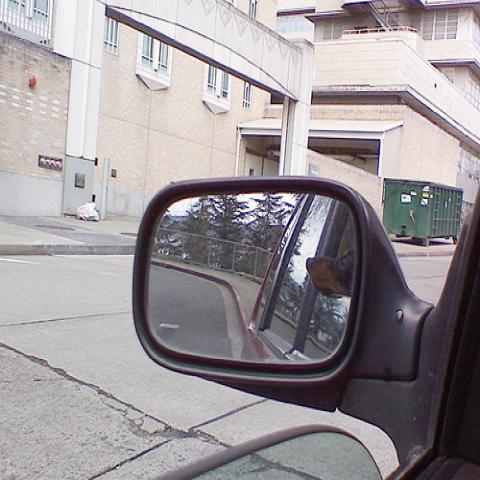car: (130, 177, 479, 474)
truck: (383, 178, 464, 245)
